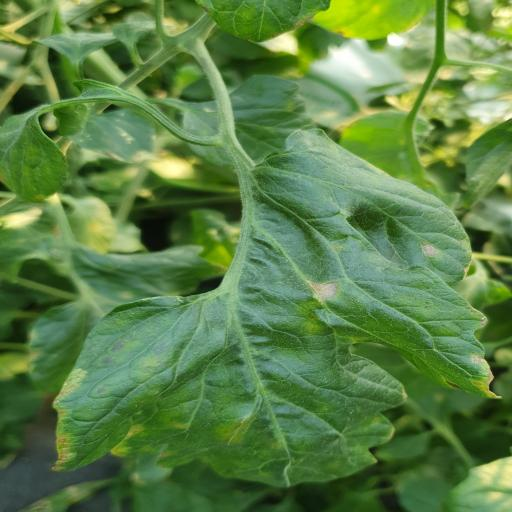Leaf Mold: (50, 124, 504, 488)
